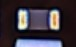COMP: (13, 6, 63, 34)
GAP: (18, 19, 61, 47)
